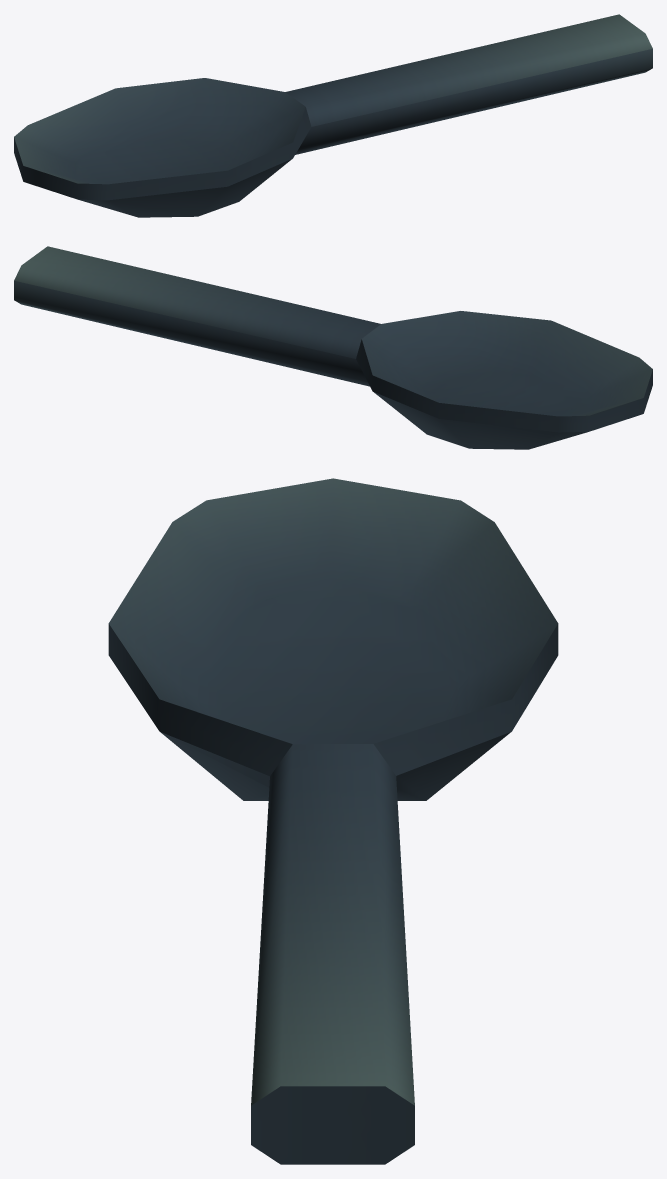
Rendered from spoon_cuttlery_metal.fbx.
3 renders of one model, top to bottom at view 1: azimuth 30°, elevation 25°; view 2: azimuth 150°, elevation 25°; view 3: azimuth 270°, elevation 25°, orthographic. The views are drawn at different scales.
Visible parts, largest first — view 1: spoon_cuttlery_metal; view 2: spoon_cuttlery_metal; view 3: spoon_cuttlery_metal.
Part boxes in pixels (box(x1,y1,x2,y2)): spoon_cuttlery_metal: box(14, 14, 652, 217); spoon_cuttlery_metal: box(14, 246, 652, 449); spoon_cuttlery_metal: box(108, 478, 558, 1164).
Bounding box in the file's own units: 36.83 × 3.88 × 11.77.
